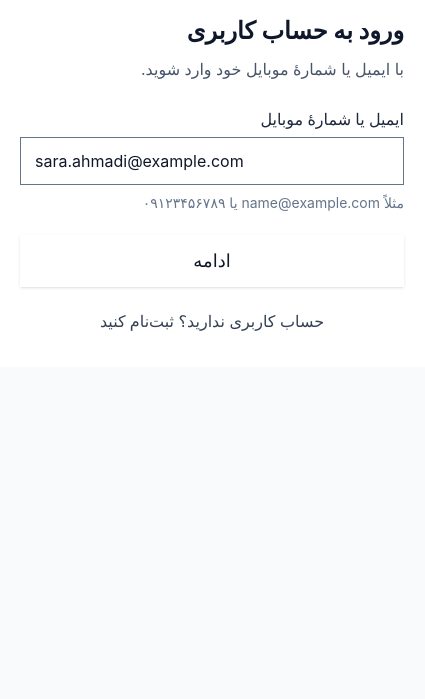
Test: the one-time code step › keeps counting while the visitor is on another step, and shows what is left on return
Click the button "ادامه" at [212, 261], box [20,235,404,287]
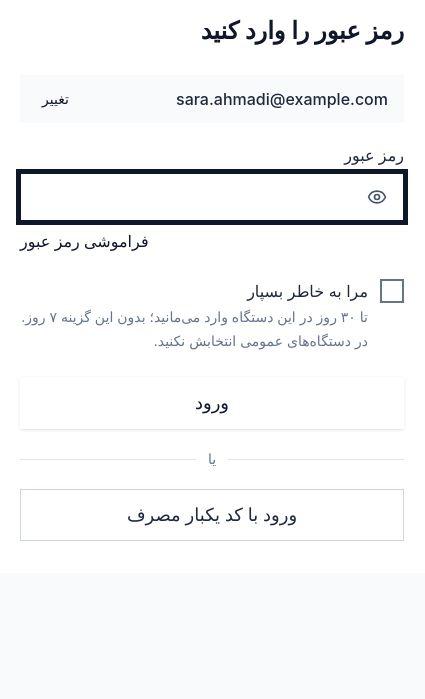
Click the button "ورود با کد یکبار مصرف" at [212, 515], box [20,489,404,541]
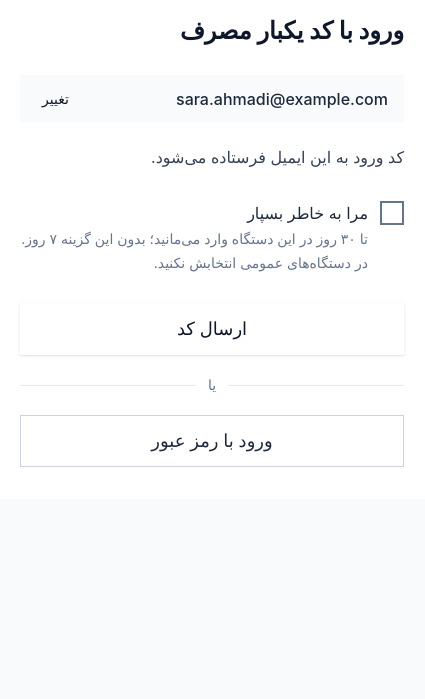
Check: the heading "ورود با کد یکبار مصرف" is shown, box [180,16,404,45]
Click the button "ارسال کد" at [212, 329], box [20,303,404,355]
Wait 60000 ms
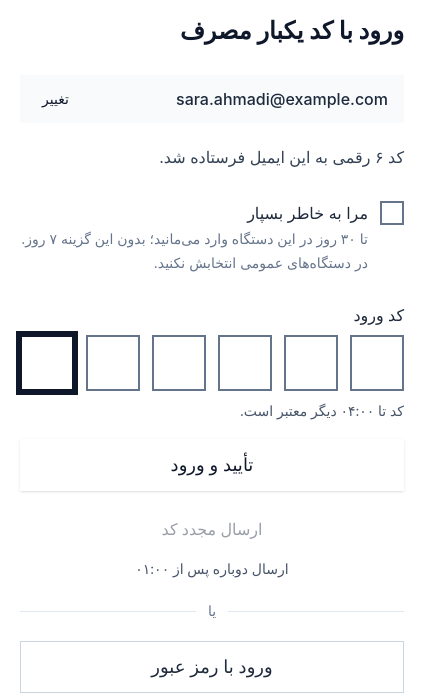
Check: the element named "کد ورود" is shown, box [20,335,404,391]
Click the button "ورود با رمز عبور" at [212, 667], box [20,641,404,693]
Wait 15000 ms
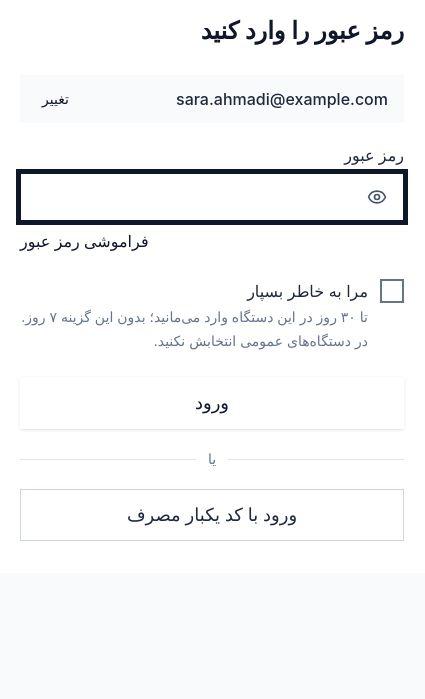
Check: the password field labelled "رمز عبور" is shown, box [21,174,355,220]
Click the button "ورود با کد یکبار مصرف" at [212, 515], box [20,489,404,541]
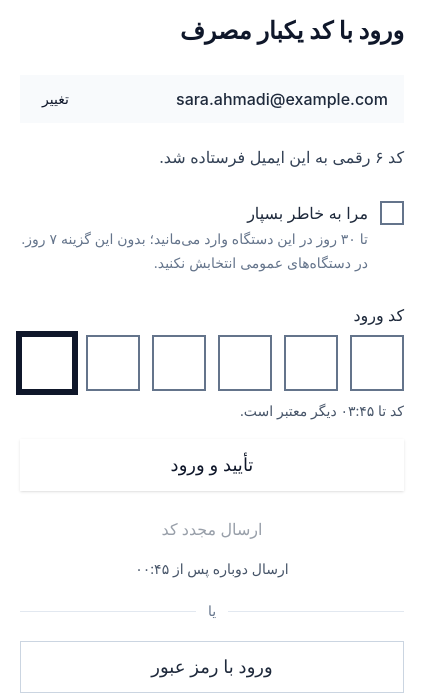
Check: the text "کد تا ۰۳:۴۵ دیگر معتبر است." is shown, box [240,402,404,419]
Check: the text "ارسال دوباره پس از ۰۰:۴۵" is shown, box [135,560,289,577]
